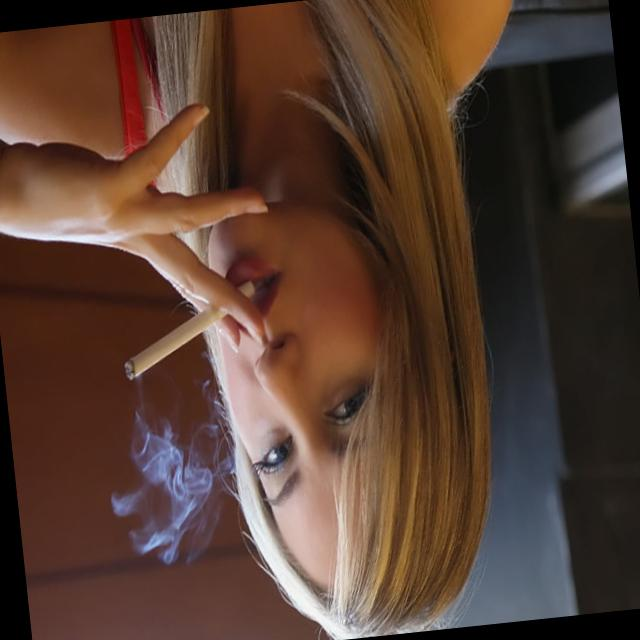smoke: (112, 270, 268, 384)
